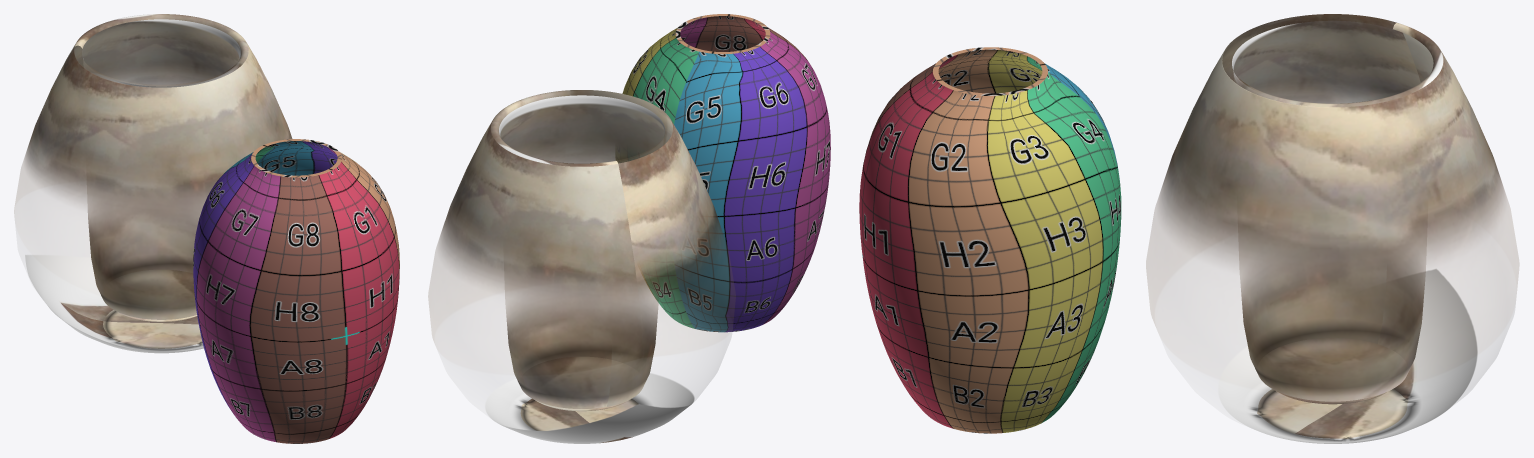
Rendered from waza_2.glb.
3 views of the same model, side by side, from view 1: azimuth 30°, elevation 25°; view 2: azimuth 150°, elevation 25°; view 3: azimuth 270°, elevation 25° (orthographic). The views are drawn at different scales.
Visible parts, largest first — view 1: Circle, mesh; view 2: Circle, mesh; view 3: Circle, mesh.
Boxes of the visible parts, x1,y1,x2,y2 form: Circle: (14,14,292,353); mesh: (193,139,399,443); Circle: (428,90,735,443); mesh: (616,14,830,332); Circle: (1146,14,1518,443); mesh: (859,47,1121,433).
Bounding box in the file's own units: 0.3514 × 0.3613 × 0.6208.
Materials: 2 (2 with a texture image).
